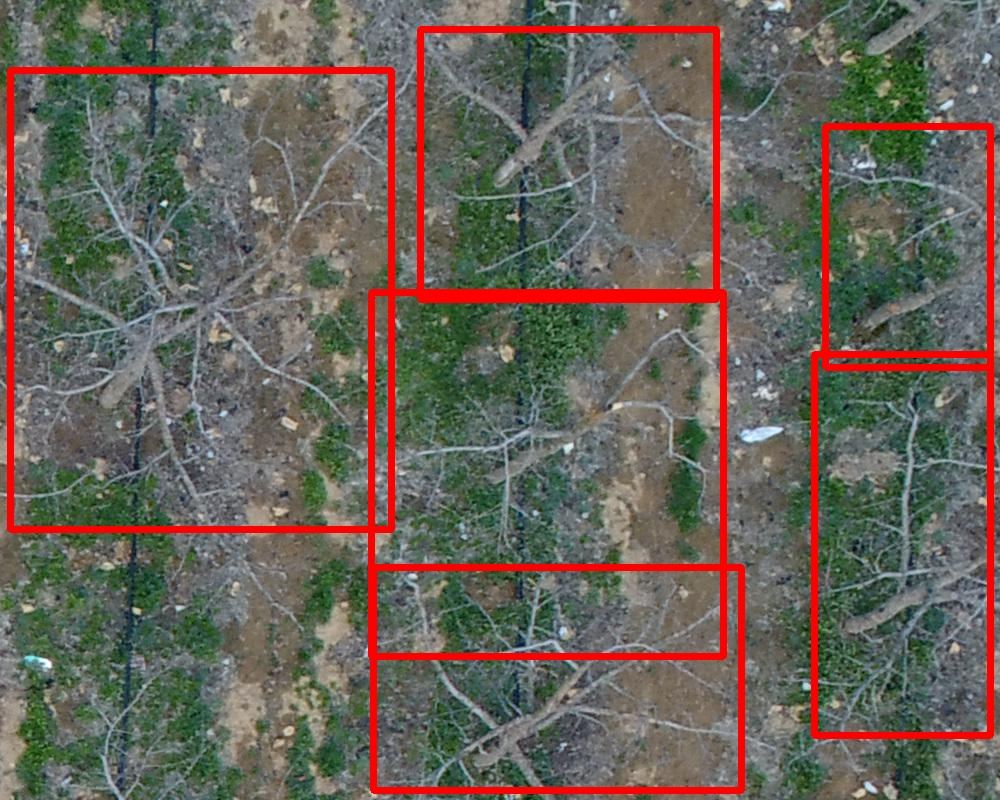apple: (10, 70, 391, 529), (371, 292, 723, 656), (373, 567, 741, 790), (420, 29, 716, 299), (814, 354, 990, 735), (825, 126, 990, 367)
